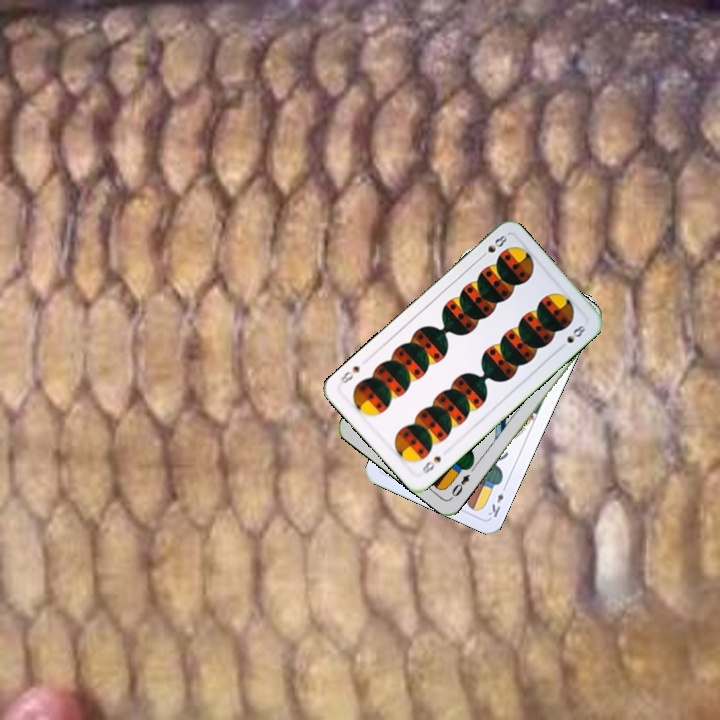EK: (484, 481, 509, 520)
EO: (447, 470, 472, 499)
S8: (475, 231, 510, 262), (418, 452, 444, 478)
